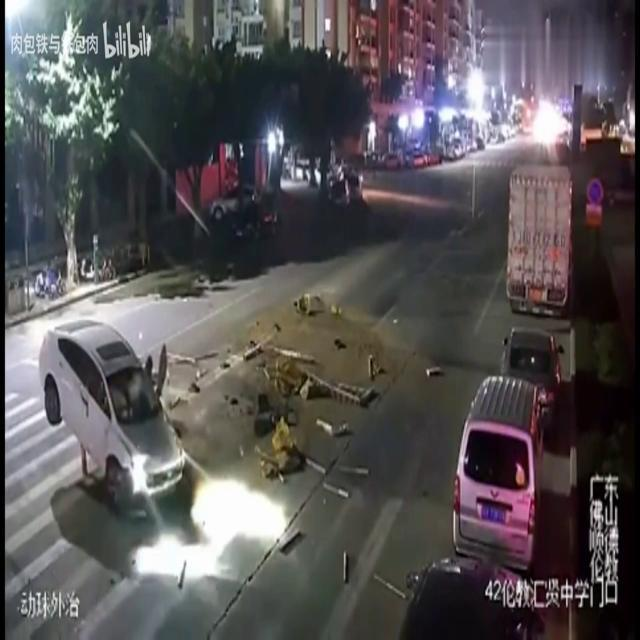single accident: (10, 310, 394, 557)
